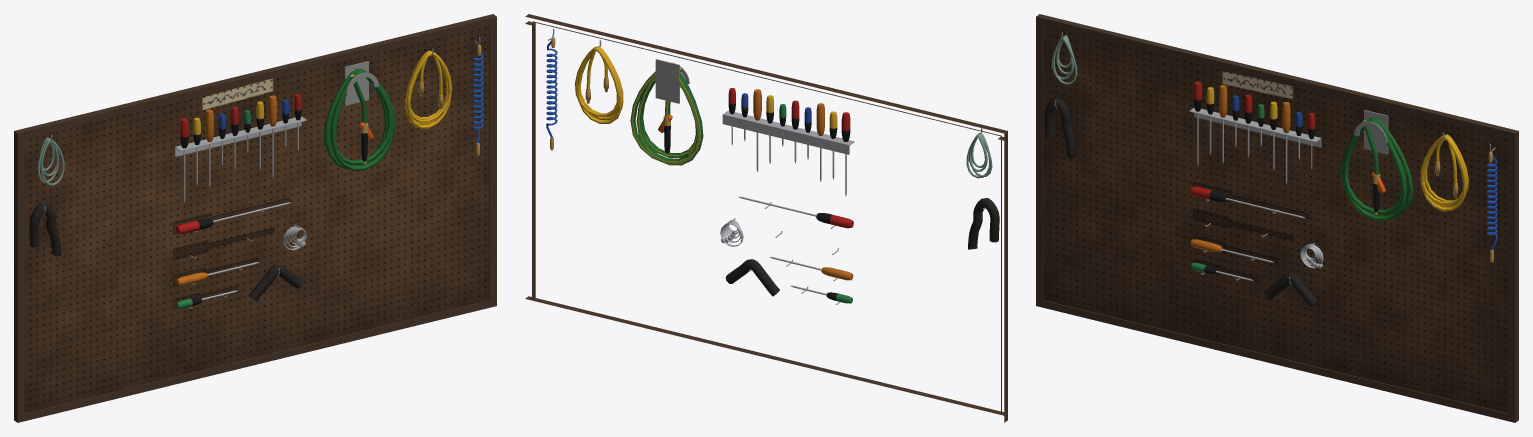
File: pegboard-hoses.glb
3 renders of one model, left to right at view 1: azimuth 30°, elevation 25°; view 2: azimuth 150°, elevation 25°; view 3: azimuth 330°, elevation 25°, orthographic.
Parts seen in each view (by area): view 1: pegboard_L17_v3; view 2: pegboard_L17_v3; view 3: pegboard_L17_v3.
Part boxes in pixels (x1,y1,x2,y2): pegboard_L17_v3: [14, 14, 496, 422]; pegboard_L17_v3: [525, 14, 1007, 422]; pegboard_L17_v3: [1036, 14, 1518, 422].
Size of the model in its own units: 1.82 by 1.05 by 0.0595.
1 material, 1 textured.
